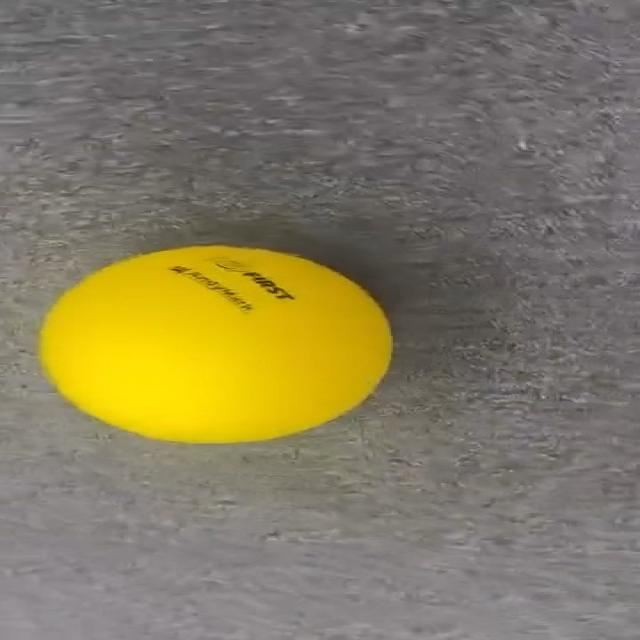Fuels: (41, 246, 389, 442)
